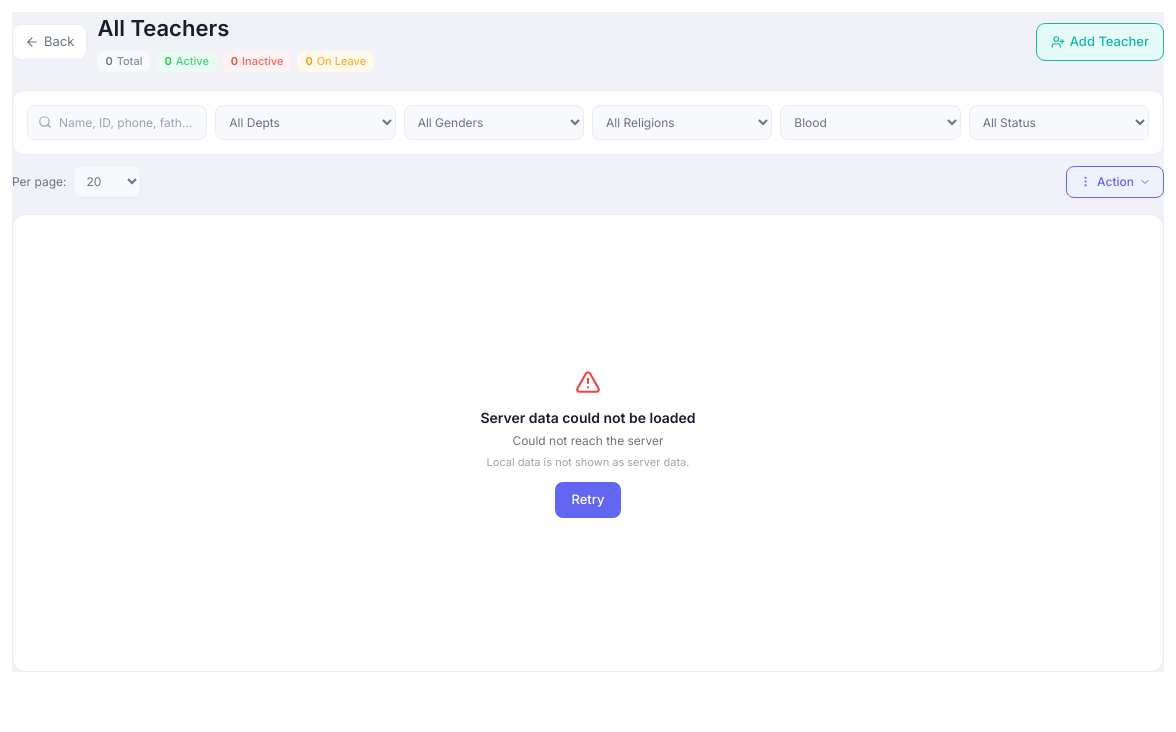
Scenario: TeachersListPage — Phase 7 server flows › sync error panel surfaces the failure; Retry re-syncs and renders server rows
The width and height of the screenshot is (1176, 732).
Expected: the text "Server data could not be loaded" is shown, [480,406,696,428]
Expected: the text "Server Teacher A" is not shown
Click the button "Retry": (588,500) [556,482,620,518]
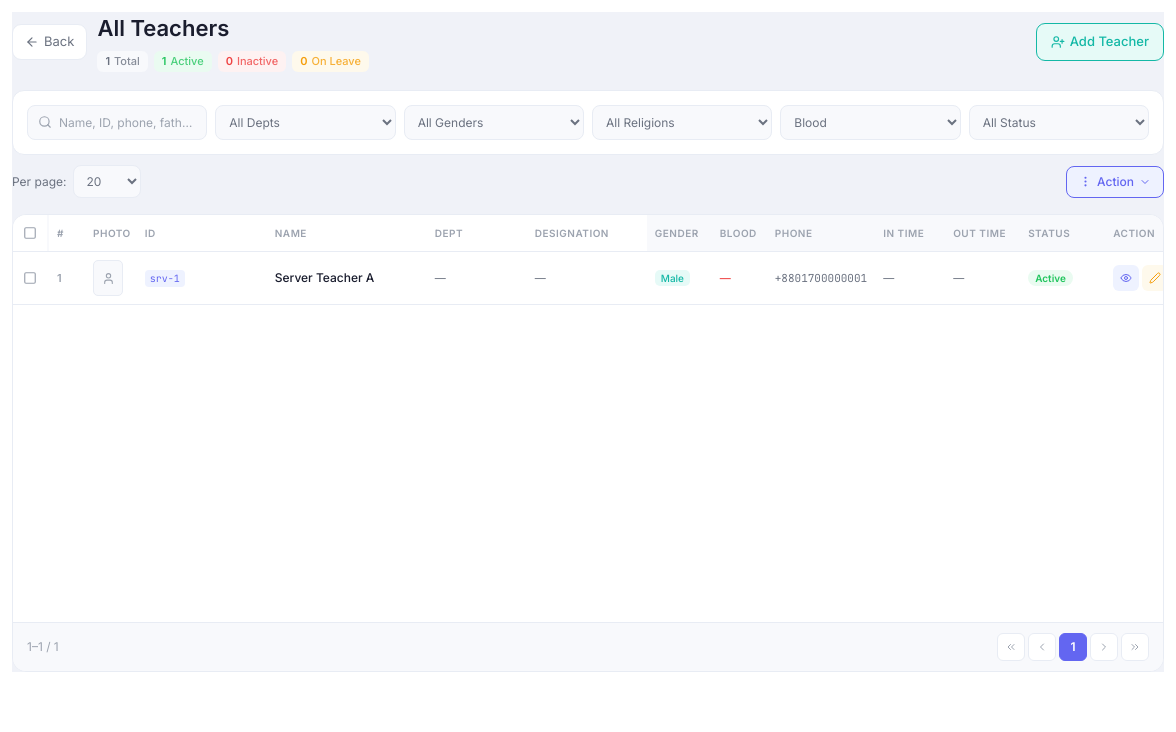
Now the text "Server Teacher A" is shown, box [275,270,374,285]
Now the text "Server data could not be loaded" is gone
